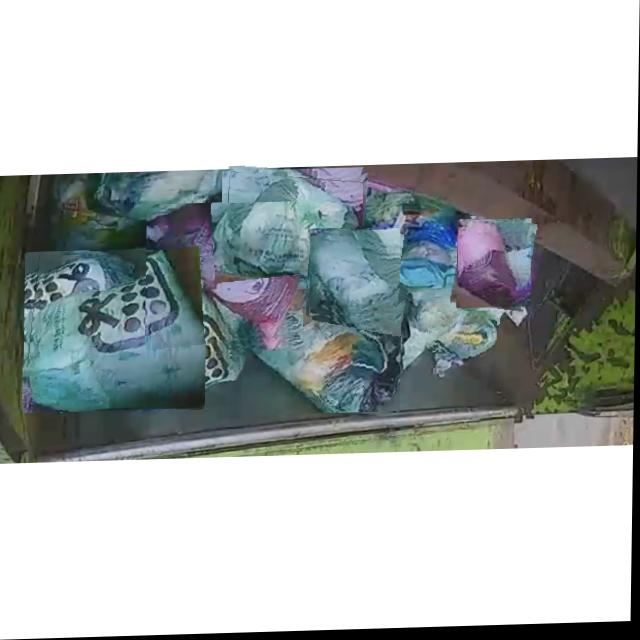general_trashbag: (27, 260, 207, 410), (240, 297, 401, 414), (223, 176, 363, 290), (108, 303, 243, 410), (312, 230, 397, 316), (429, 315, 498, 376)
other_trashbag: (148, 205, 303, 340), (459, 222, 524, 313)
